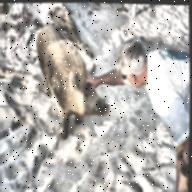boar: (2, 4, 126, 131)
